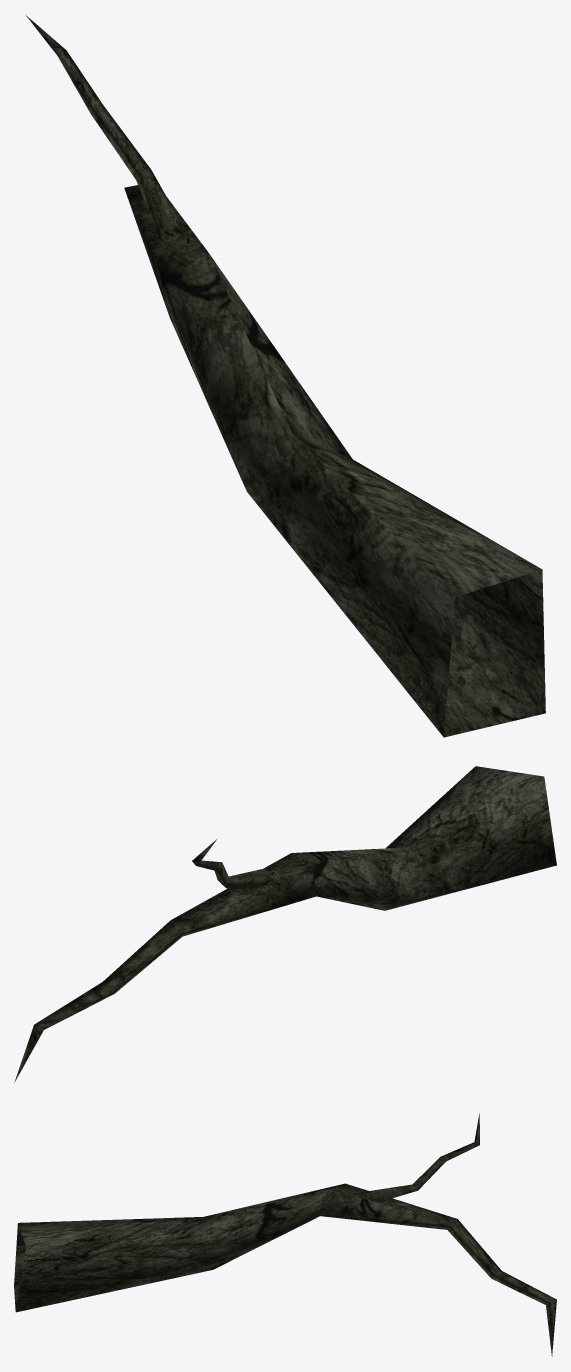
The model's file is MEP_DeadTree_05.fbx.
3 renders of one model, top to bottom at view 1: azimuth 30°, elevation 25°; view 2: azimuth 150°, elevation 25°; view 3: azimuth 270°, elevation 25°, orthographic. The views are drawn at different scales.
Visible parts, largest first — view 1: MEP_DeadTree_05; view 2: MEP_DeadTree_05; view 3: MEP_DeadTree_05.
Part boxes in pixels (<box>): MEP_DeadTree_05: <box>26,15,545,737</box>; MEP_DeadTree_05: <box>14,766,556,1082</box>; MEP_DeadTree_05: <box>14,1113,556,1356</box>.
Bounding box in the file's own units: 1.45 × 1.84 × 4.8.
Materials: 1 (1 with a texture image).
